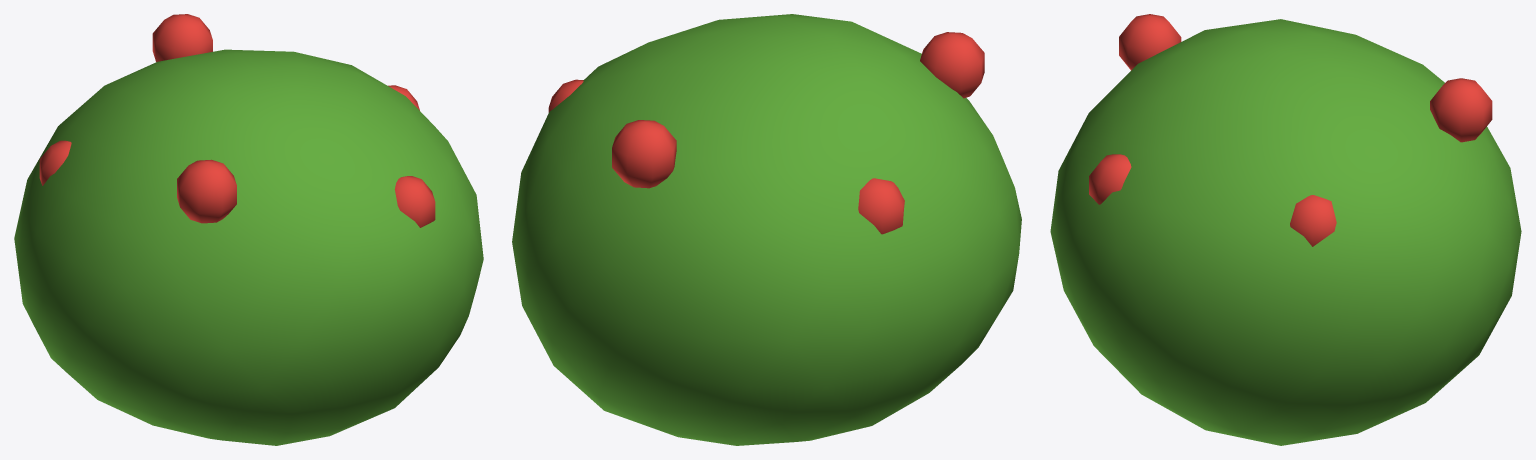
The model's file is prop_bush_1.glb.
The picture shows the model from 3 angles, left to right: view 1: azimuth 30°, elevation 25°; view 2: azimuth 150°, elevation 25°; view 3: azimuth 270°, elevation 25°; orthographic projection. The views are drawn at different scales.
Parts seen in each view (by area): view 1: BushA, Berry3, Berry1, Berry4, Berry2; view 2: BushA, Berry1, Berry3, Berry2; view 3: BushA, Berry1, Berry3, Berry0, Berry4.
Boxes of the visible parts, x1=… form: BushA: x1=14, y1=49, x2=483, y2=445; Berry3: x1=177, y1=159, x2=236, y2=223; Berry1: x1=152, y1=14, x2=212, y2=61; Berry4: x1=394, y1=176, x2=435, y2=227; Berry2: x1=39, y1=140, x2=71, y2=185; BushA: x1=512, y1=14, x2=1021, y2=445; Berry1: x1=612, y1=120, x2=676, y2=188; Berry3: x1=920, y1=32, x2=984, y2=98; Berry2: x1=858, y1=178, x2=904, y2=234; BushA: x1=1050, y1=19, x2=1521, y2=445; Berry1: x1=1430, y1=78, x2=1492, y2=142; Berry3: x1=1119, y1=14, x2=1181, y2=70; Berry0: x1=1290, y1=195, x2=1336, y2=246; Berry4: x1=1089, y1=154, x2=1131, y2=204.
Size of the model in its own units: 1.31 by 1.08 by 1.29.
